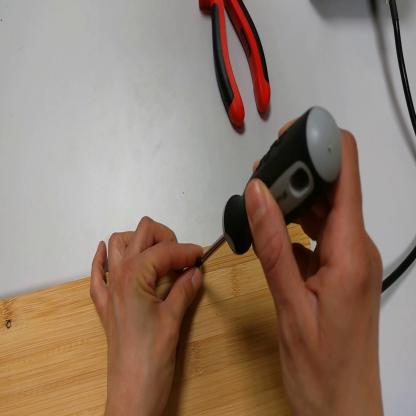hand: (246, 116, 387, 416), (92, 219, 205, 415)
pliers: (201, 1, 272, 134)
screwdriver-: (195, 107, 345, 270)
working area: (2, 224, 312, 415)
